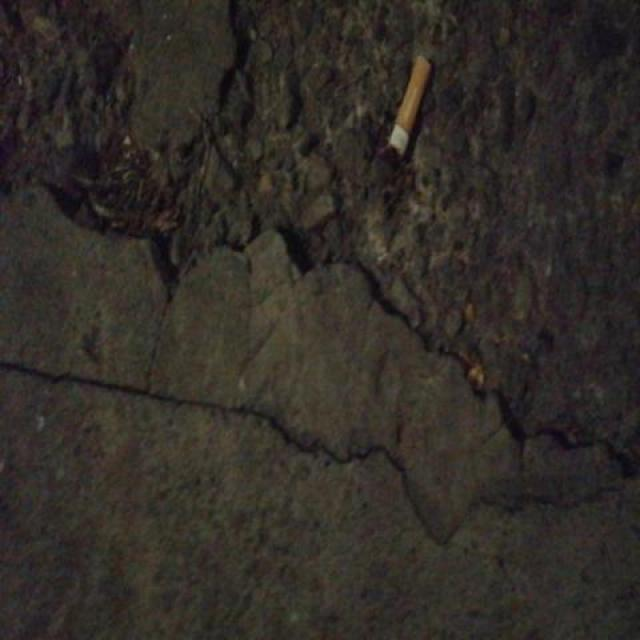non-organic waste: (384, 50, 436, 162)
